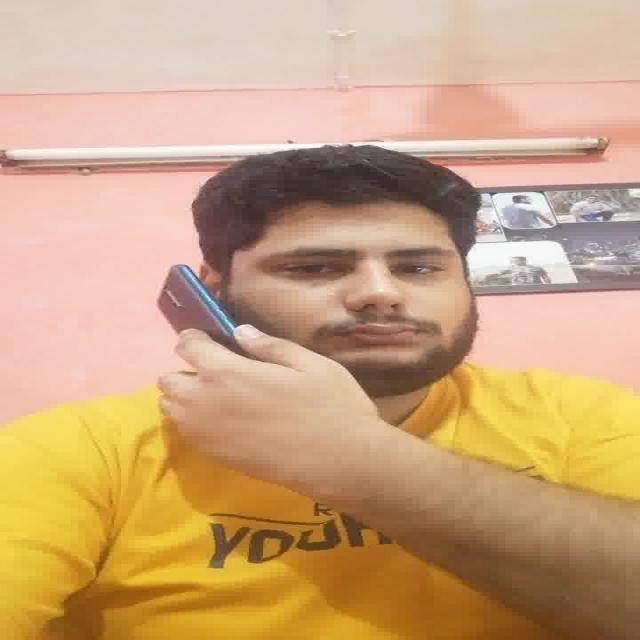Phone: (153, 262, 244, 357)
